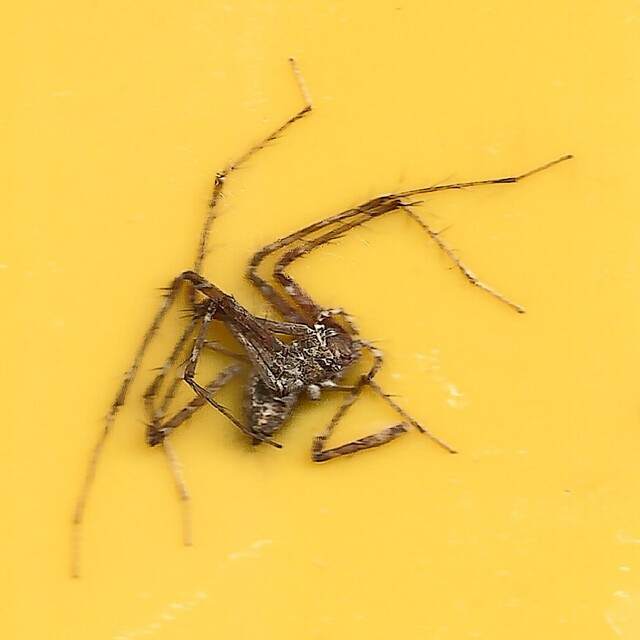Araneae: (68, 62, 572, 578)
